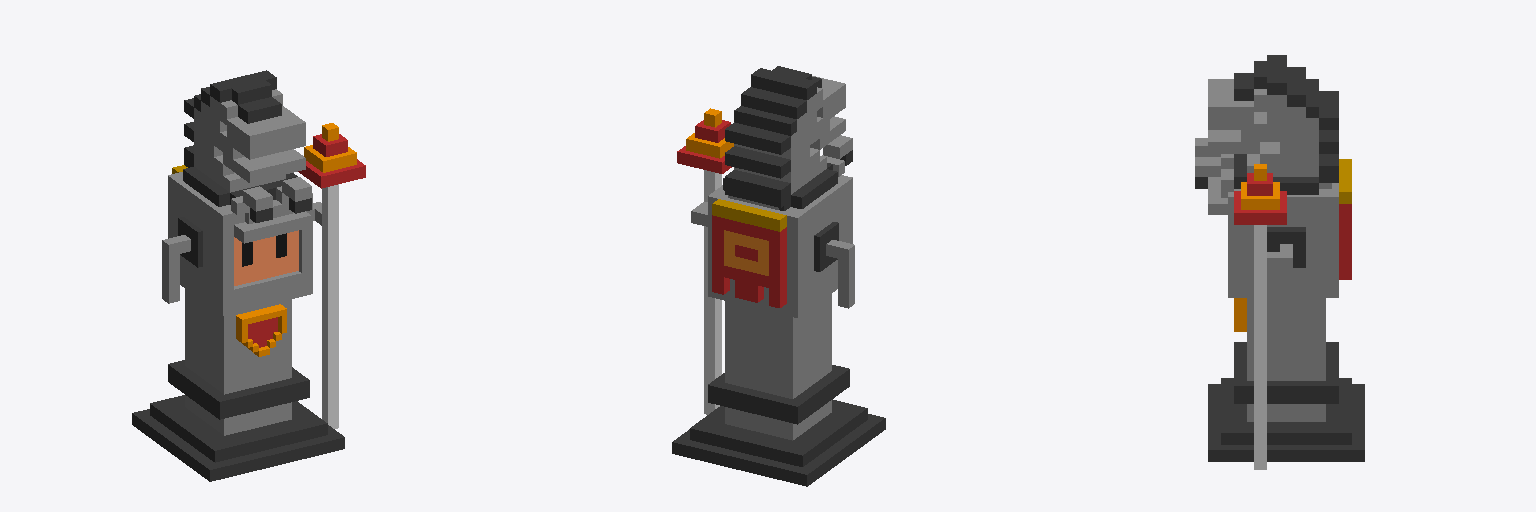
3 views of the same model, side by side, from view 1: azimuth 30°, elevation 25°; view 2: azimuth 150°, elevation 25°; view 3: azimuth 270°, elevation 25° (orthographic).
Parts seen in each view (by area): view 1: object 1; view 2: object 1; view 3: object 1.
Boxes of the visible parts, box(x1,y1,x2,y2) form: object 1: box(132, 70, 365, 481); object 1: box(672, 66, 885, 486); object 1: box(1195, 55, 1364, 469).
Bounding box in the file's own units: 3.1 × 6.1 × 2.6.
Materials: 1 (1 with a texture image).